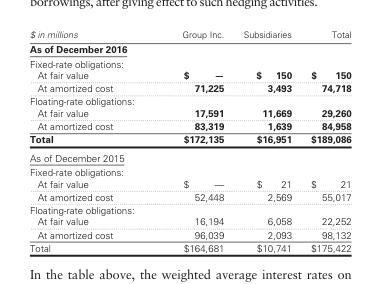table: (28, 28, 350, 252)
table column: (28, 28, 146, 252), (146, 28, 233, 252), (233, 28, 300, 252), (300, 28, 350, 252)
table column header: (28, 28, 350, 41)
table projected row header: (28, 147, 350, 164), (28, 41, 350, 55), (28, 55, 350, 69), (28, 164, 350, 177), (28, 202, 350, 215), (28, 94, 350, 106)
table row: (28, 147, 350, 164), (28, 132, 350, 147), (28, 41, 350, 55), (28, 55, 350, 69), (28, 28, 350, 41), (28, 81, 350, 94), (28, 106, 350, 119), (28, 119, 350, 132), (28, 164, 350, 177), (28, 189, 350, 202), (28, 202, 350, 215), (28, 227, 350, 240), (28, 69, 350, 81), (28, 94, 350, 106), (28, 177, 350, 189), (28, 215, 350, 227), (28, 240, 350, 252)
